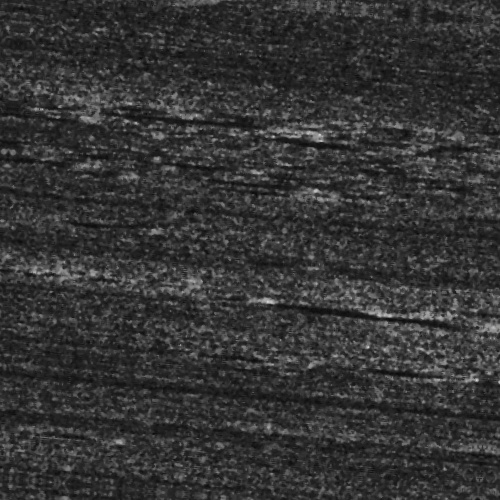object: (206, 118, 331, 127), (428, 297, 500, 310), (345, 130, 418, 137), (253, 187, 326, 194), (345, 295, 418, 302), (357, 155, 440, 160), (220, 167, 261, 172), (47, 174, 88, 179), (280, 179, 311, 184)
shadow: (337, 297, 490, 310), (102, 118, 269, 127), (259, 295, 381, 302), (263, 130, 381, 137), (172, 179, 295, 184), (156, 167, 240, 172), (320, 155, 399, 160), (0, 174, 67, 179), (248, 187, 289, 194)
